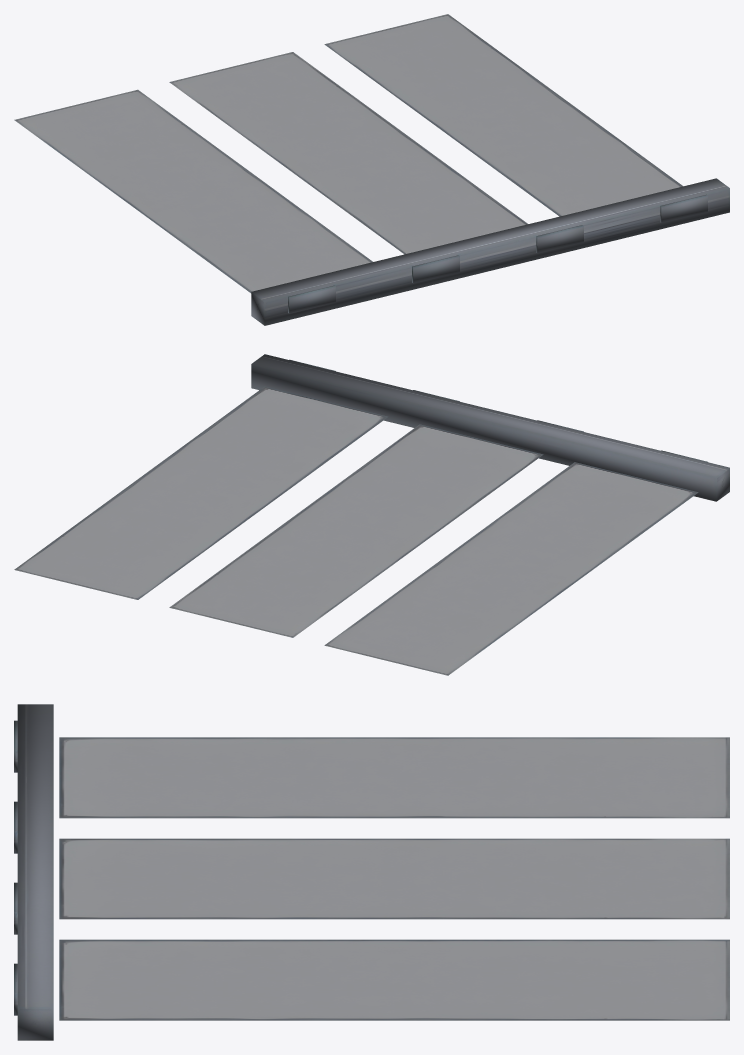
File: yard-dock-plate-body-tripo-original.glb
3 views of the same model, one above another, from view 1: azimuth 30°, elevation 25°; view 2: azimuth 150°, elevation 25°; view 3: azimuth 270°, elevation 25° (orthographic). The views are drawn at different scales.
Parts seen in each view (by area): view 1: Authored_surface_032; view 2: Authored_surface_032; view 3: Authored_surface_032.
Boxes of the visible parts, left/top/right/bottom form: Authored_surface_032: left=14, top=14, right=729, bottom=325; Authored_surface_032: left=14, top=354, right=729, bottom=675; Authored_surface_032: left=14, top=704, right=729, bottom=1040.
Size of the model in its own units: 1 by 0.05 by 0.9967.
Materials: 1 (1 with a texture image).
